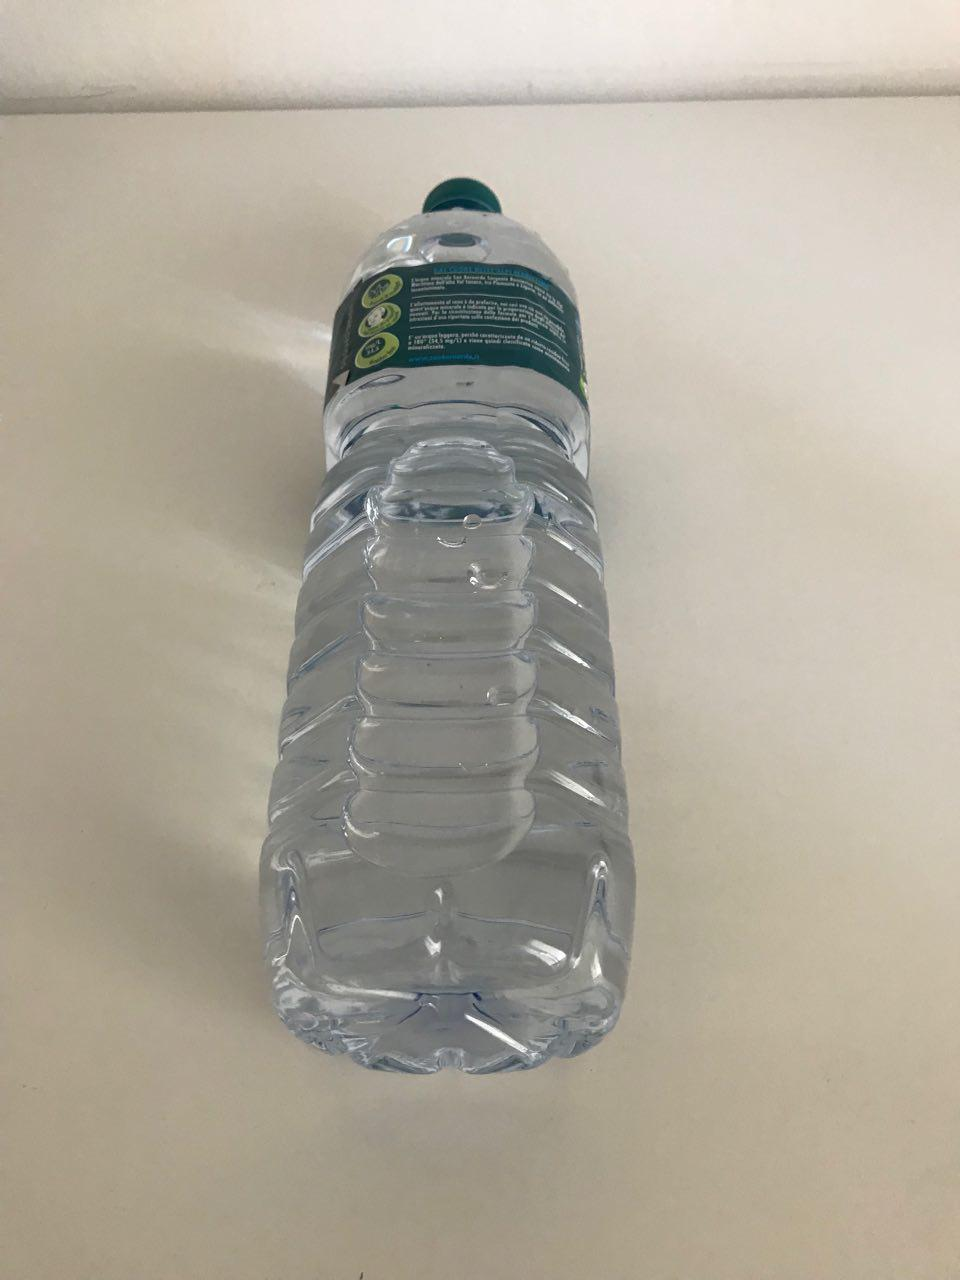san_bernardo: (254, 174, 639, 1078)
